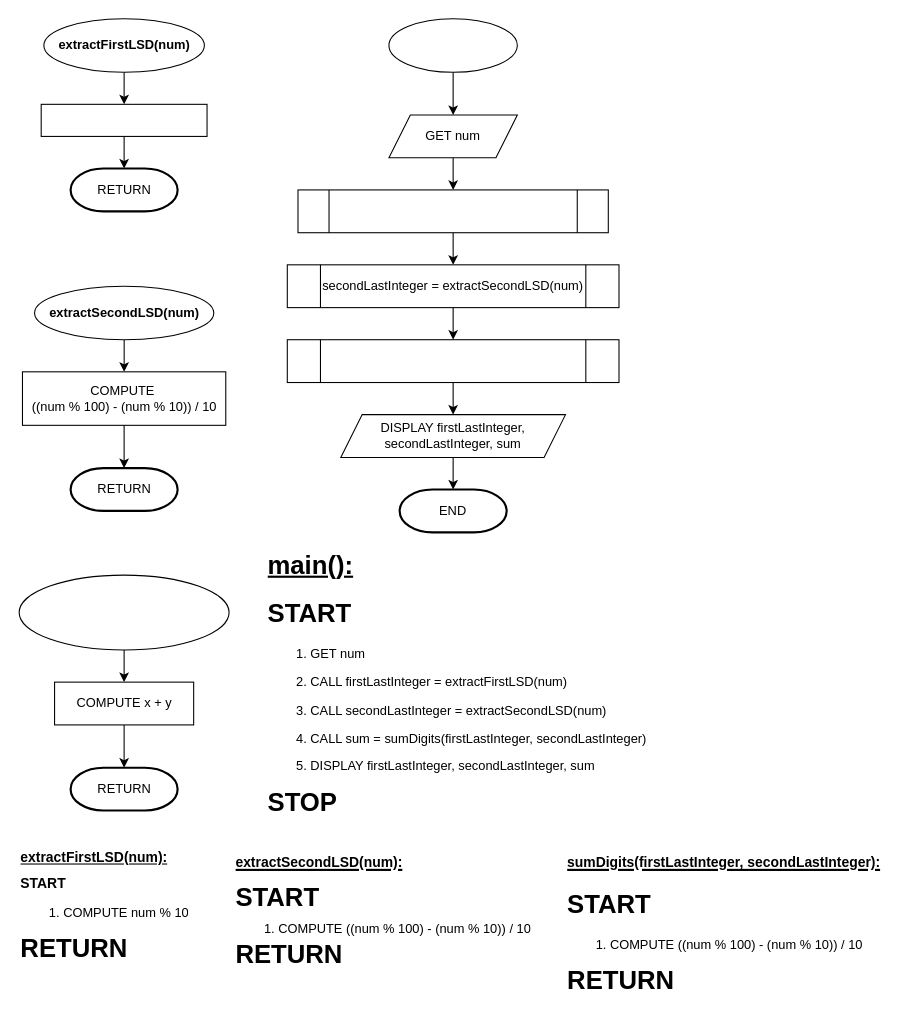
The diagram is 905 pixels wide and 1036 high, and some of its shapes have lost their labels. Each missing label, with the centre of its shape:
"COMPUTE num % 10" belongs at pixel 123 119.
"firstLastInteger = extractFirstLSD(num)" belongs at pixel 452 211.
"START" belongs at pixel 452 45.
"sum = sumDigits(firstLastInteger, secondLastInteger)" belongs at pixel 452 361.
"sumDigits(firstLastInteger, secondLastInteger)" belongs at pixel 123 612.
